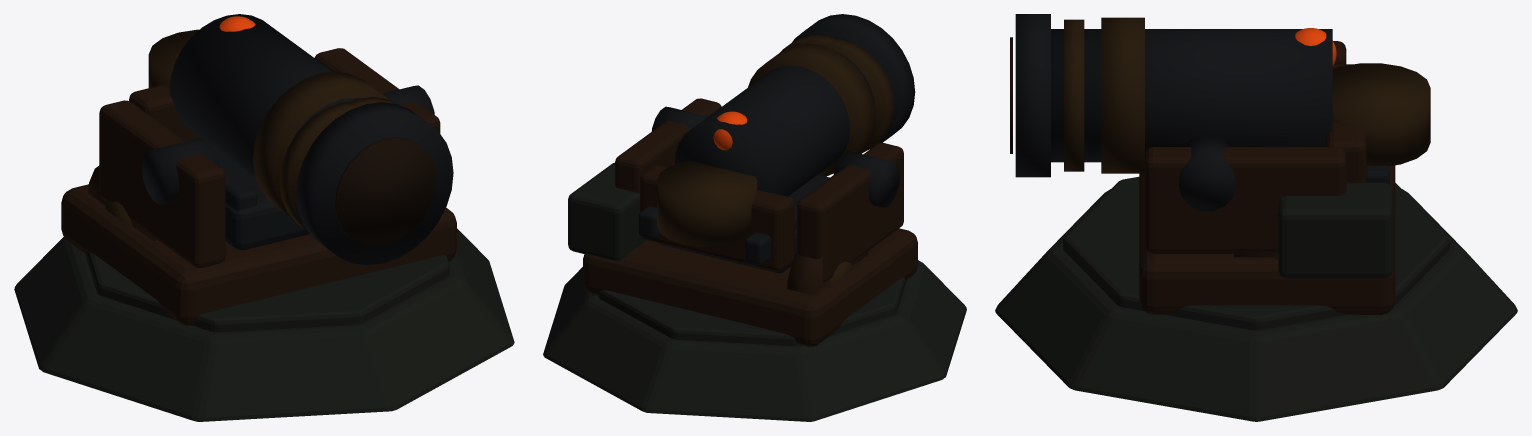
File: TowerSiege3.obj
3 renders of one model, left to right at view 1: azimuth 30°, elevation 25°; view 2: azimuth 150°, elevation 25°; view 3: azimuth 270°, elevation 25°, orthographic. The views are drawn at different scales.
Parts seen in each view (by area): view 1: limestone_socket_lower_course, oak_carriage, forged_mortar_barrel, carriage_cheek, black_muzzle_rim, limestone_socket_upper_course, dark_bore, bronze_reinforce_collar, iron_cradle, iron_trunnion, apex_barrel_band, carriage_cheek.001 (+5 smaller); view 2: limestone_socket_lower_course, oak_carriage, forged_mortar_barrel, carriage_cheek, counterweight, limestone_socket_upper_course, stone_ammo_chest, bronze_reinforce_collar, recoil_stop, black_muzzle_rim, carriage_cheek.001, apex_barrel_band (+7 smaller); view 3: limestone_socket_lower_course, forged_mortar_barrel, carriage_cheek.001, limestone_socket_upper_course, oak_carriage, stone_ammo_chest, counterweight, bronze_reinforce_collar, black_muzzle_rim, iron_trunnion.001, apex_barrel_band.001, recoil_stop (+1 smaller).
Boxes of the visible parts, box(x1,y1,x2,y2) form: limestone_socket_lower_course: box(14, 228, 514, 421); oak_carriage: box(61, 184, 456, 325); forged_mortar_barrel: box(169, 14, 358, 177); carriage_cheek: box(99, 100, 225, 267); black_muzzle_rim: box(296, 102, 453, 265); limestone_socket_upper_course: box(85, 251, 449, 332); dark_bore: box(335, 137, 436, 245); bronze_reinforce_collar: box(253, 71, 389, 218); iron_cradle: box(213, 147, 309, 250); iron_trunnion: box(141, 137, 220, 204); apex_barrel_band: box(279, 102, 356, 230); carriage_cheek.001: box(314, 48, 440, 133); limestone_socket_lower_course: box(543, 260, 966, 421); oak_carriage: box(583, 228, 917, 346); forged_mortar_barrel: box(674, 36, 874, 196); carriage_cheek: box(797, 143, 903, 282); counterweight: box(657, 161, 757, 246); limestone_socket_upper_course: box(598, 277, 906, 346); stone_ammo_chest: box(568, 162, 646, 260); bronze_reinforce_collar: box(748, 43, 876, 176); recoil_stop: box(640, 165, 794, 271); black_muzzle_rim: box(792, 14, 915, 149); carriage_cheek.001: box(615, 98, 721, 193); apex_barrel_band: box(819, 38, 894, 152); limestone_socket_lower_course: box(995, 189, 1517, 421); forged_mortar_barrel: box(1051, 29, 1332, 162); carriage_cheek.001: box(1145, 147, 1346, 253); limestone_socket_upper_course: box(1063, 176, 1449, 330); oak_carriage: box(1139, 165, 1395, 314); stone_ammo_chest: box(1278, 182, 1392, 278); counterweight: box(1332, 63, 1430, 166); bronze_reinforce_collar: box(1101, 17, 1144, 173); black_muzzle_rim: box(1015, 14, 1050, 177); iron_trunnion.001: box(1179, 135, 1235, 211); apex_barrel_band.001: box(1064, 31, 1084, 171); recoil_stop: box(1326, 64, 1366, 182).
Size of the model in its own units: 1.92 by 1.18 by 1.92.
